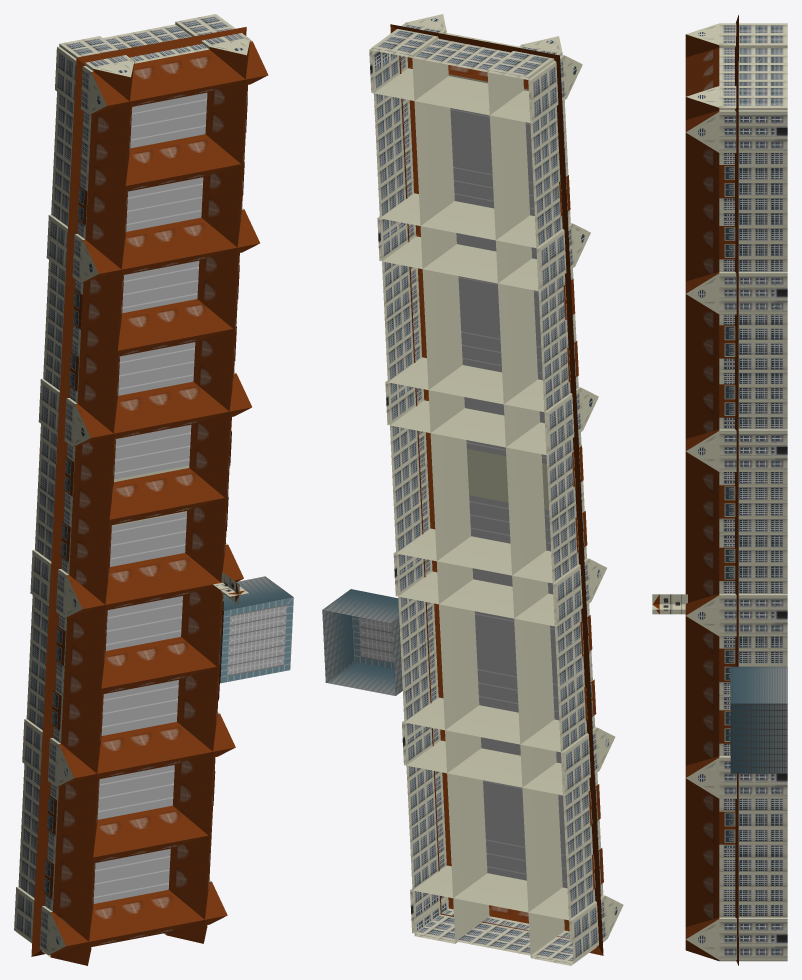
The model's file is DEU_HI1154_KARLSRUHE_ZKM_MEDIA_MUSEUM_L.OBJ.
3 renders of one model, left to right at view 1: azimuth 30°, elevation 25°; view 2: azimuth 150°, elevation 25°; view 3: azimuth 270°, elevation 25°, orthographic.
Visible parts, largest first — view 1: DEU_HI1154_KARLSRUHE_ZKM_MEDIA_MUSEUM_L; view 2: DEU_HI1154_KARLSRUHE_ZKM_MEDIA_MUSEUM_L; view 3: DEU_HI1154_KARLSRUHE_ZKM_MEDIA_MUSEUM_L.
Boxes of the visible parts, x1=… form: DEU_HI1154_KARLSRUHE_ZKM_MEDIA_MUSEUM_L: x1=14, y1=14, x2=293, y2=965; DEU_HI1154_KARLSRUHE_ZKM_MEDIA_MUSEUM_L: x1=322, y1=14, x2=623, y2=965; DEU_HI1154_KARLSRUHE_ZKM_MEDIA_MUSEUM_L: x1=652, y1=15, x2=787, y2=965.
Size of the model in its own units: 95.01 by 315 by 43.47.
1 material, 1 textured.
